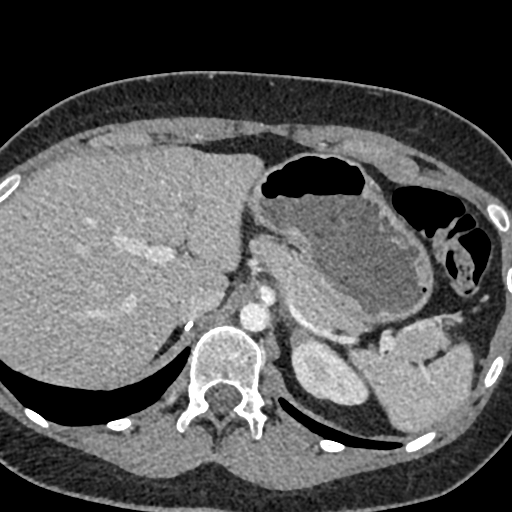Lesion: (284, 324, 311, 350)
